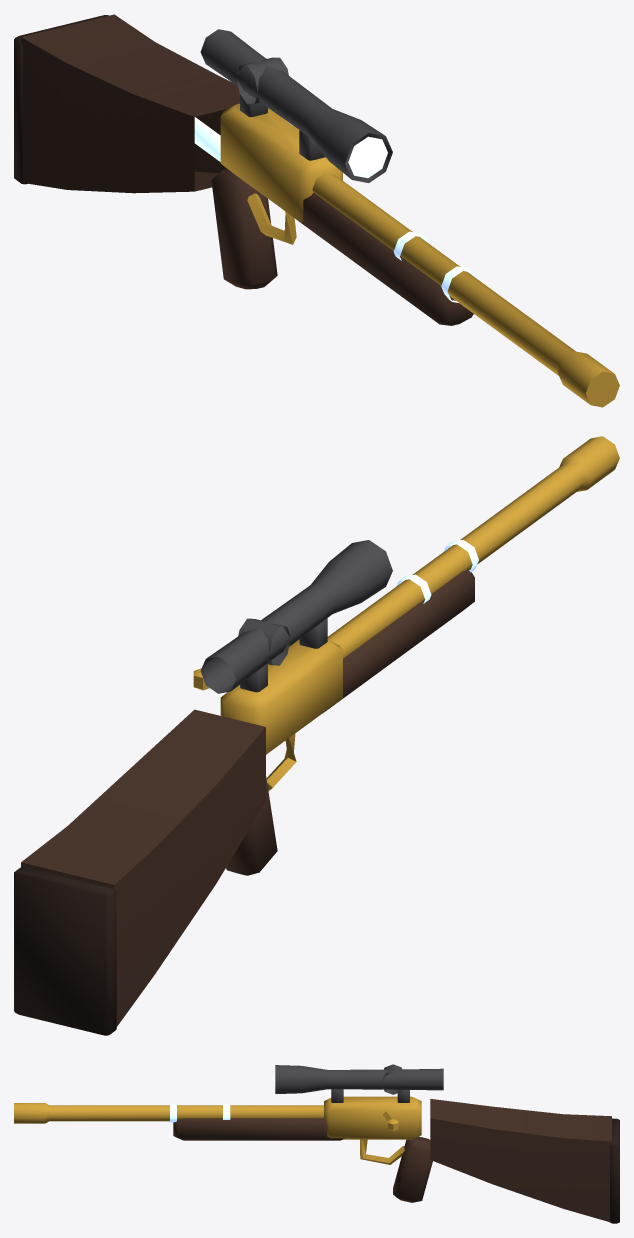
The model's file is rifle-4.glb.
3 renders of one model, top to bottom at view 1: azimuth 30°, elevation 25°; view 2: azimuth 150°, elevation 25°; view 3: azimuth 270°, elevation 25°, orthographic. The views are drawn at different scales.
Visible parts, largest first — view 1: rifle-4; view 2: rifle-4; view 3: rifle-4.
Boxes of the visible parts, box(x1,y1,x2,y2) form: rifle-4: box(14, 14, 619, 407); rifle-4: box(14, 436, 619, 1035); rifle-4: box(14, 1064, 619, 1223).
Size of the model in its own units: 0.0859 by 0.1815 by 0.684.
